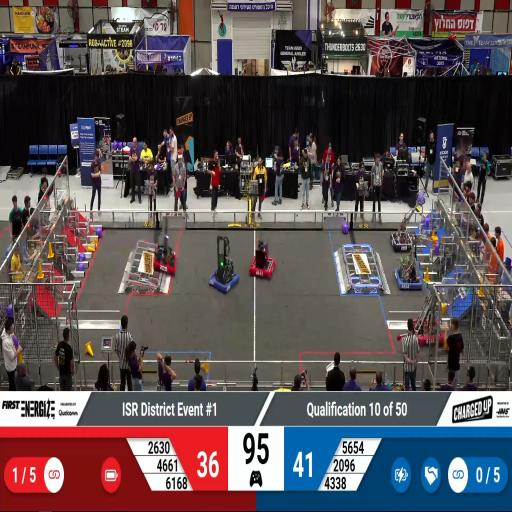robot: (209, 249, 240, 294), (248, 244, 278, 282), (412, 309, 442, 347), (153, 239, 177, 275), (392, 265, 423, 289), (388, 226, 412, 252)
